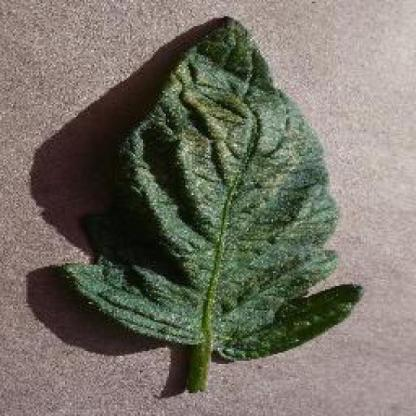Tomato_Spider_Mites: (69, 17, 361, 357)
